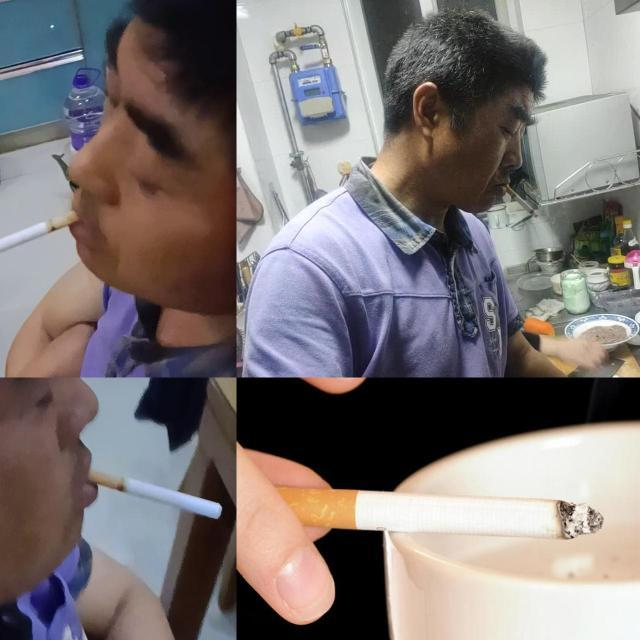cigarette: (272, 484, 604, 546), (86, 468, 224, 520), (0, 212, 80, 268), (504, 183, 536, 215)
